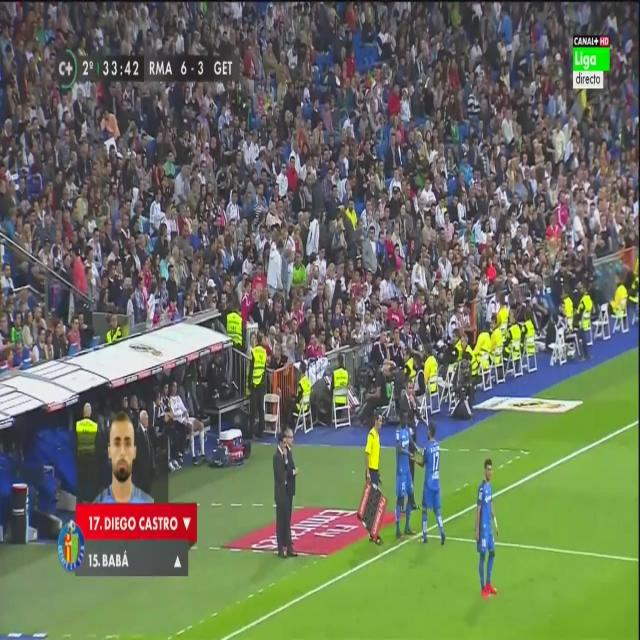Player: (418, 420, 448, 548), (474, 461, 501, 598), (395, 406, 418, 544)
Referee: (362, 408, 387, 542)
